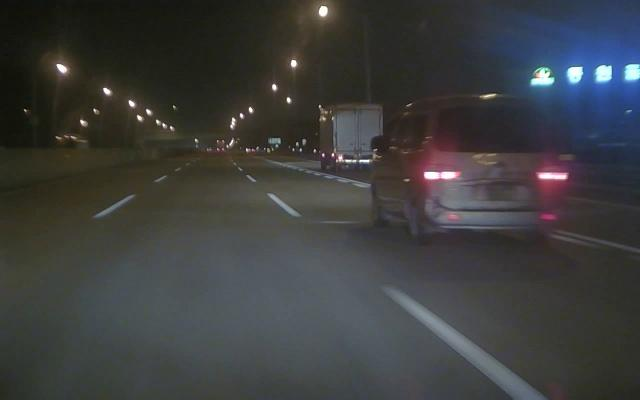lane: (245, 175, 551, 399), (306, 171, 638, 254), (27, 193, 138, 262)
